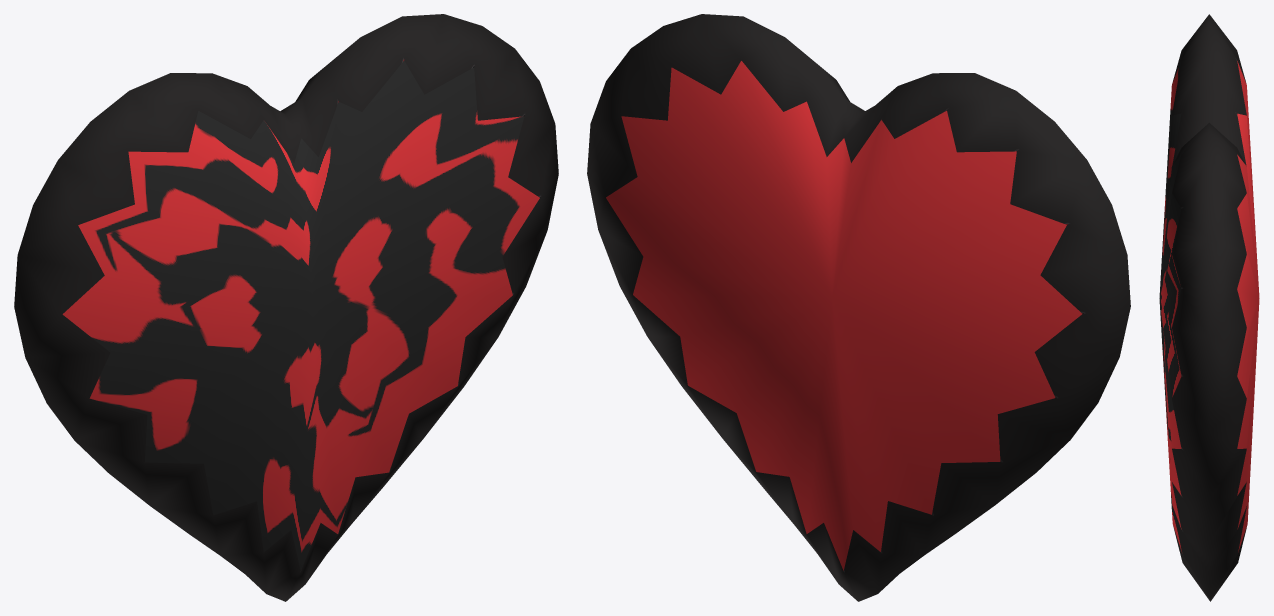
Rendered from coracao.fbx.
3 views of the same model, side by side, from view 1: azimuth 30°, elevation 25°; view 2: azimuth 150°, elevation 25°; view 3: azimuth 270°, elevation 25° (orthographic). The views are drawn at different scales.
Parts seen in each view (by area): view 1: Sphere_001; view 2: Sphere_001; view 3: Sphere_001.
Boxes of the visible parts, x1,y1,x2,y2 form: Sphere_001: (14, 14, 558, 601); Sphere_001: (587, 14, 1130, 601); Sphere_001: (1159, 14, 1259, 601).
Bounding box in the file's own units: 4.25 × 4.15 × 0.7197.
